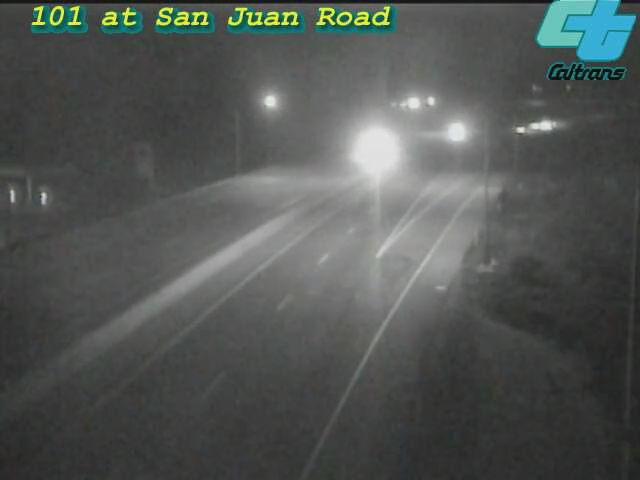vehicle: (348, 127, 398, 177), (429, 107, 479, 157), (527, 97, 577, 147), (510, 99, 560, 149), (495, 105, 545, 155)
